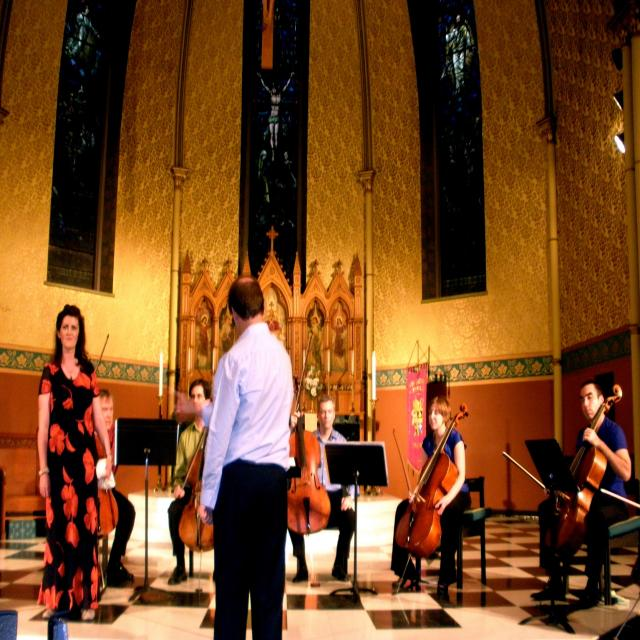cello: (542, 381, 625, 560), (394, 401, 472, 564), (286, 372, 334, 535), (177, 401, 220, 556)
